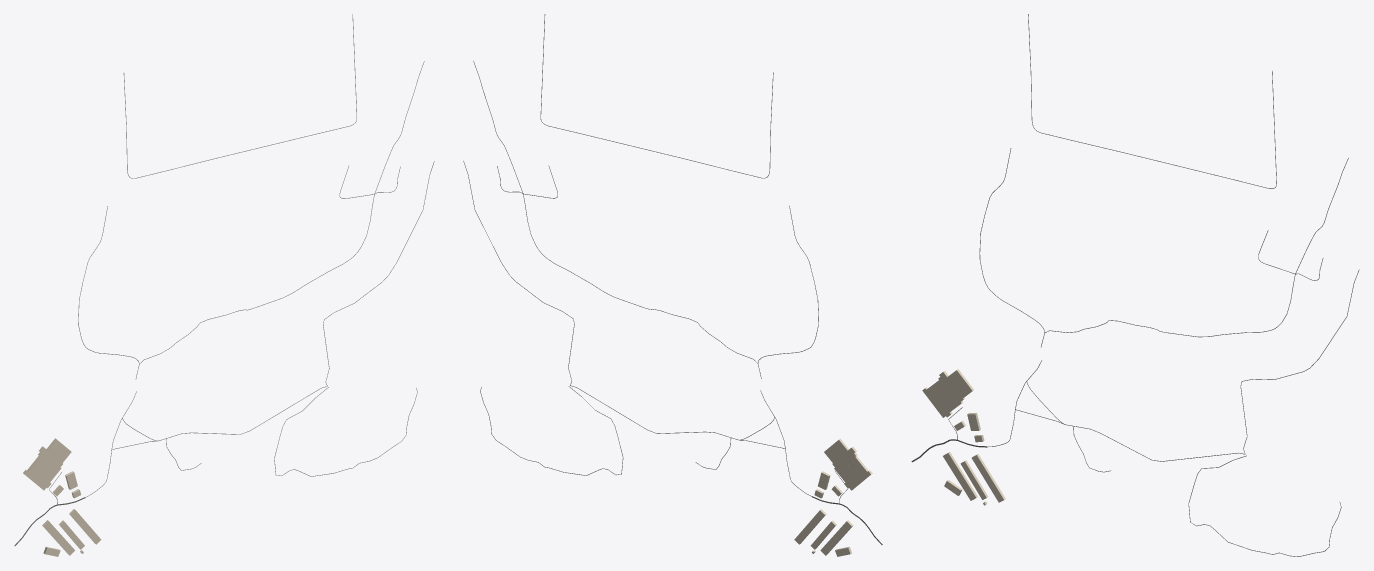
Rendered from historic-palestine-09_30_3505_3244.glb.
3 renders of one model, left to right at view 1: azimuth 30°, elevation 25°; view 2: azimuth 150°, elevation 25°; view 3: azimuth 330°, elevation 25°, orthographic. The views are drawn at different scales.
Parts seen in each view (by area): view 1: Building_.008; view 2: Building_.008; view 3: Building_.008, Road .012.
Boxes of the visible parts, x1,y1,x2,y2 form: Building_.008: (23,438,71,490); Building_.008: (824,438,872,490); Building_.008: (922,369,973,417); Road .012: (1028,14,1276,188).
Bounding box in the file's own units: 1178 × 1270 × 8.7.
